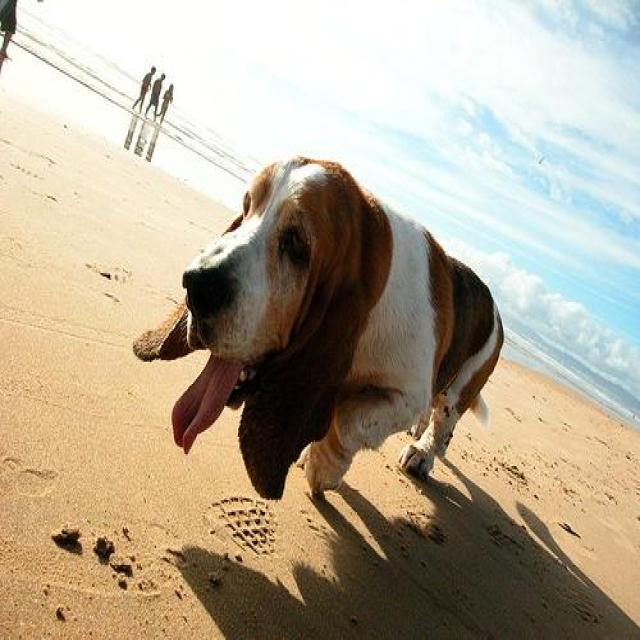basset: (128, 153, 507, 507)
